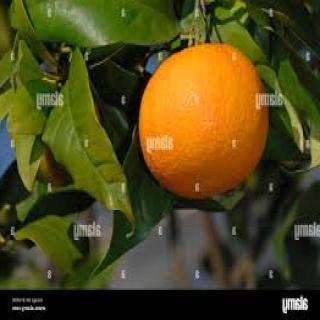orange: (127, 38, 282, 208)
